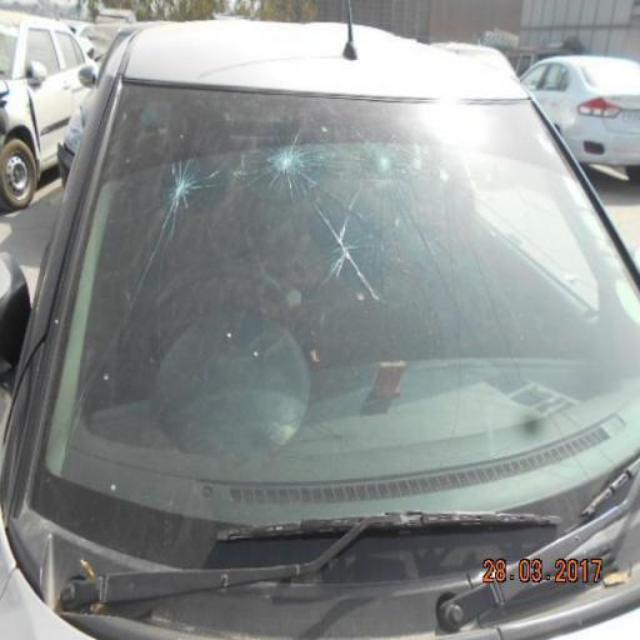glass shatter: (267, 139, 310, 181), (365, 137, 403, 179), (166, 167, 196, 204)
